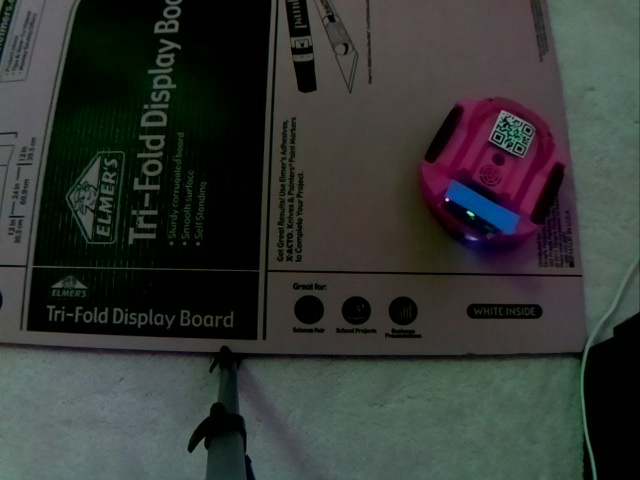chassis: (413, 91, 571, 254)
qr: (488, 109, 537, 159)
